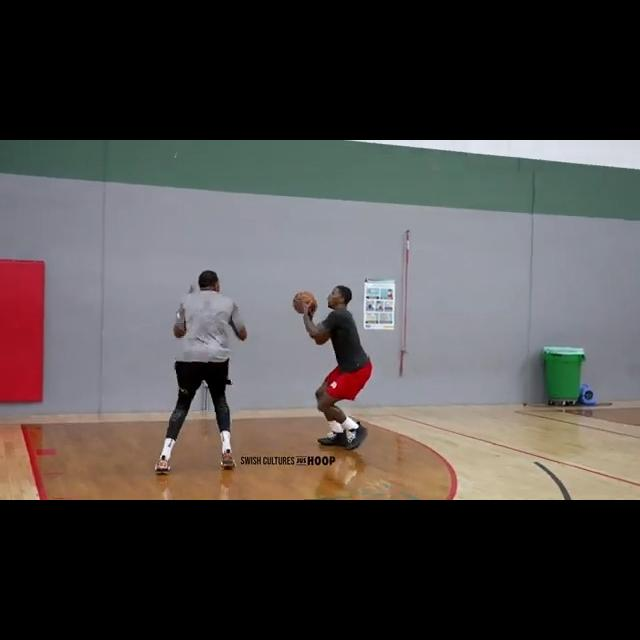basketball: (293, 292, 317, 314)
person: (151, 264, 248, 477), (301, 283, 375, 454)
